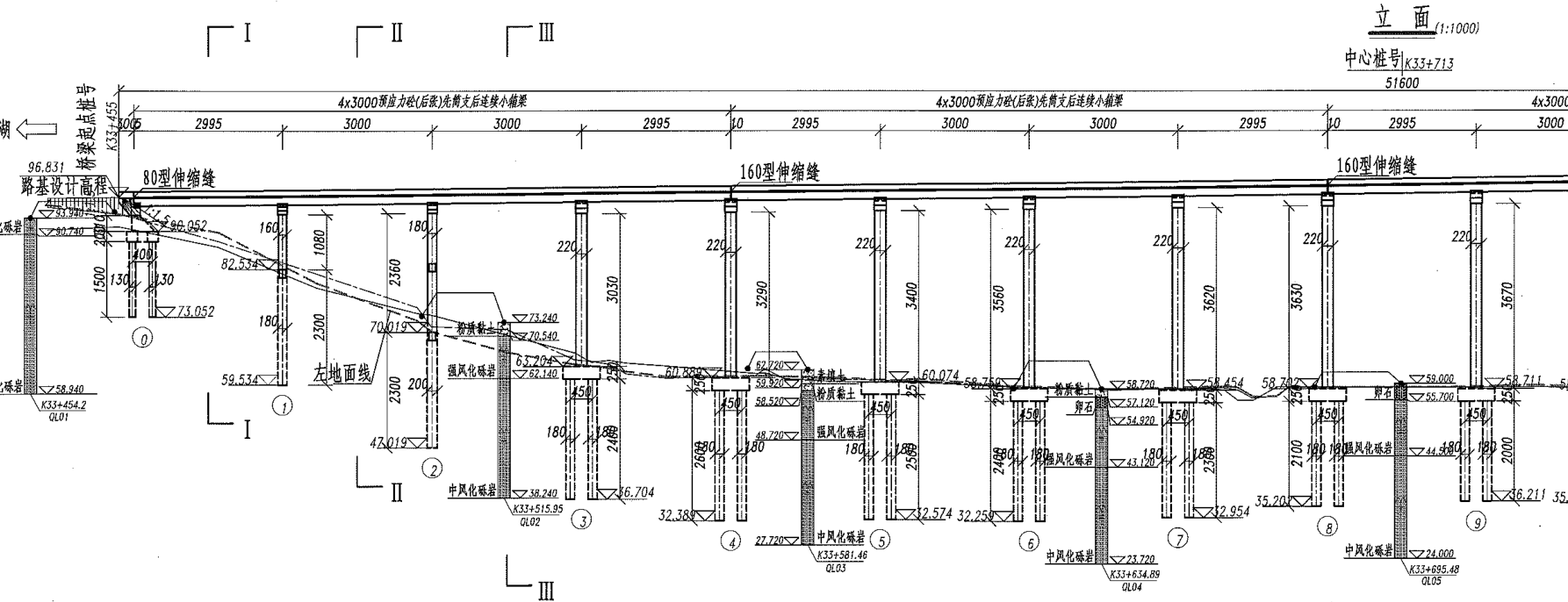A: (114, 71, 1568, 97)
B: (128, 90, 747, 121), (721, 93, 1337, 120)
C: (1132, 183, 1249, 563), (838, 196, 952, 554), (1431, 187, 1546, 537), (648, 189, 753, 563), (1255, 193, 1359, 547), (957, 193, 1054, 558), (521, 197, 605, 537), (360, 197, 450, 484), (211, 197, 301, 419)
